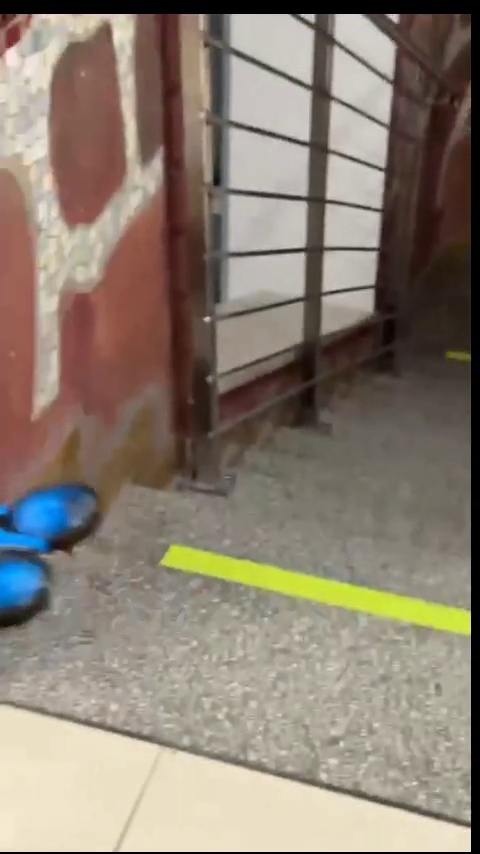drone: (0, 487, 107, 632)
